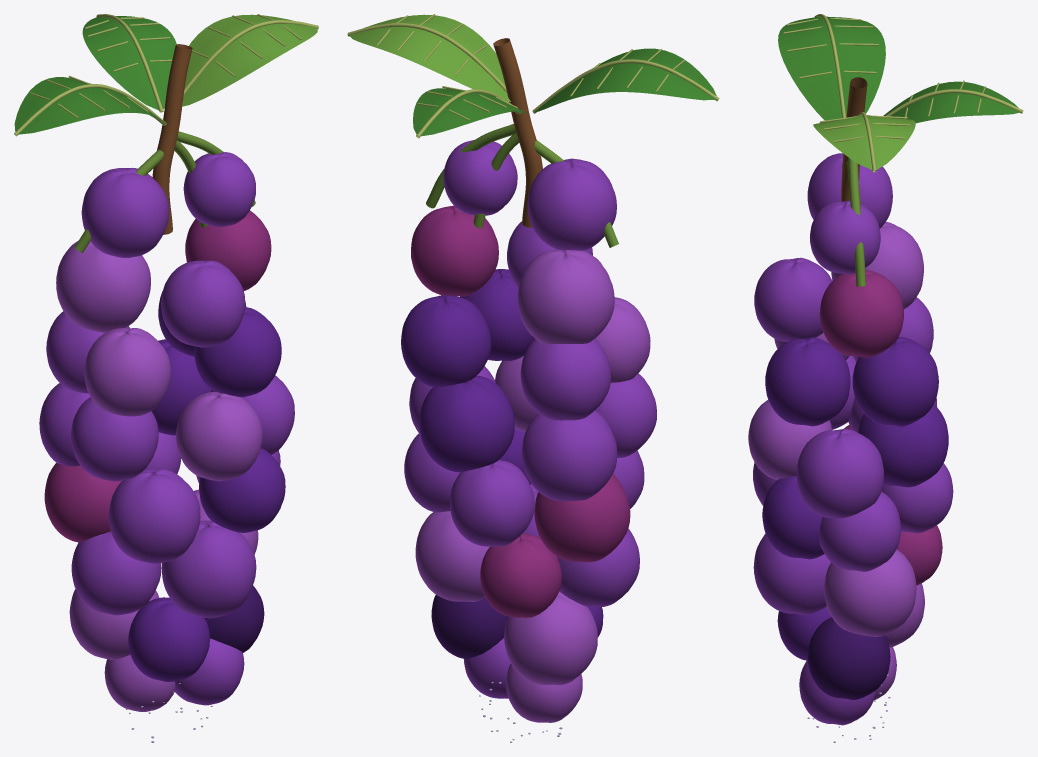
File: Uvas.glb
3 renders of one model, left to right at view 1: azimuth 30°, elevation 25°; view 2: azimuth 150°, elevation 25°; view 3: azimuth 270°, elevation 25°, orthographic. The views are drawn at different scales.
Visible parts, largest first — view 1: Uvas_Ultra_Premium_MESH; view 2: Uvas_Ultra_Premium_MESH; view 3: Uvas_Ultra_Premium_MESH.
Part boxes in pixels (x1,y1,x2,y2): Uvas_Ultra_Premium_MESH: (14,14,318,742); Uvas_Ultra_Premium_MESH: (347,14,719,742); Uvas_Ultra_Premium_MESH: (748,14,1023,742).
Size of the model in its own units: 1.15 by 2.23 by 0.8404.
